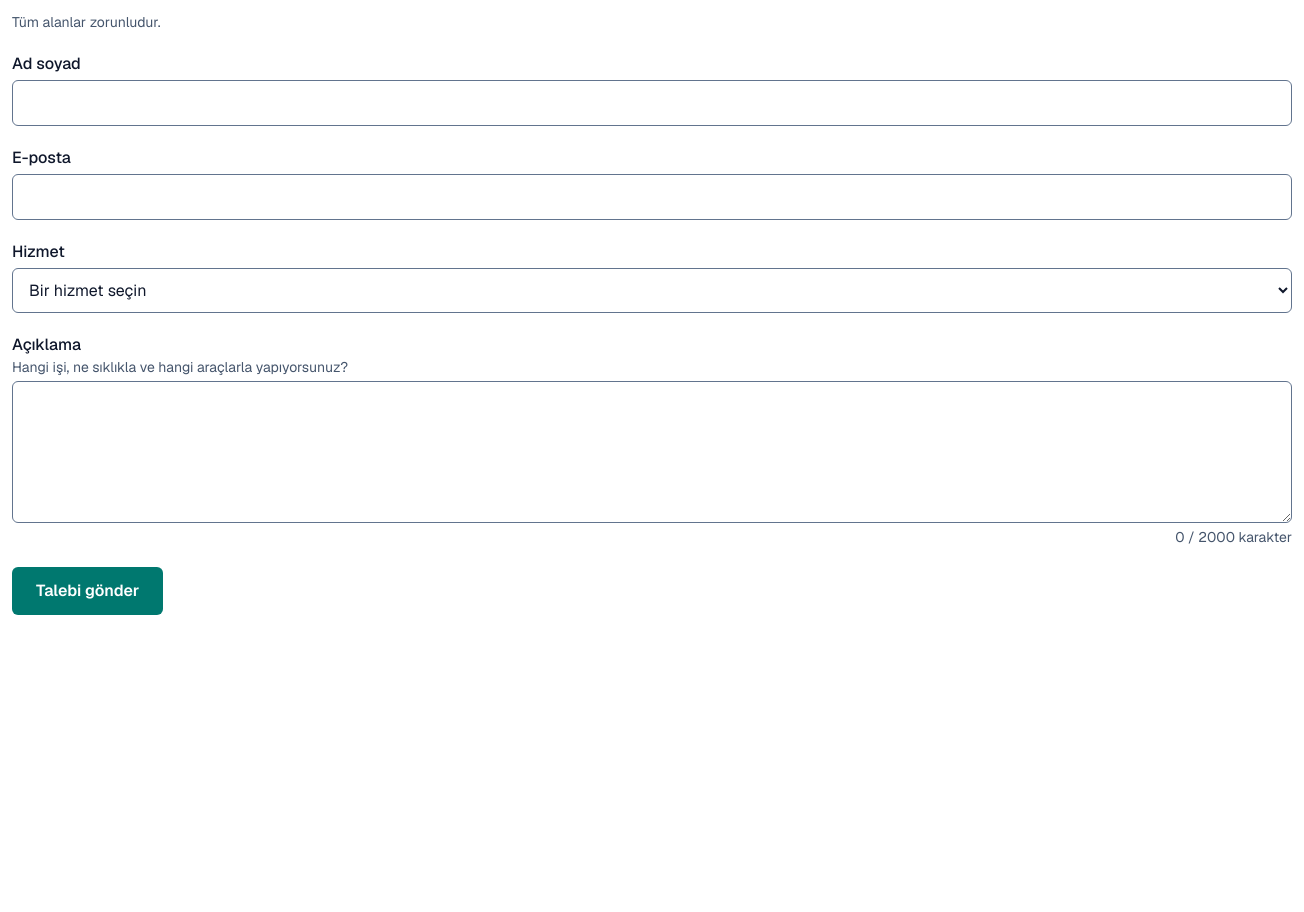
RequestForm › never shows success on 500 server error and keeps the entered data
Type "Ayşe Yılmaz" into the field labelled "Ad soyad".
click(652, 103); type("Ayşe Yılmaz")  # box left=12, top=80, right=1292, bottom=126
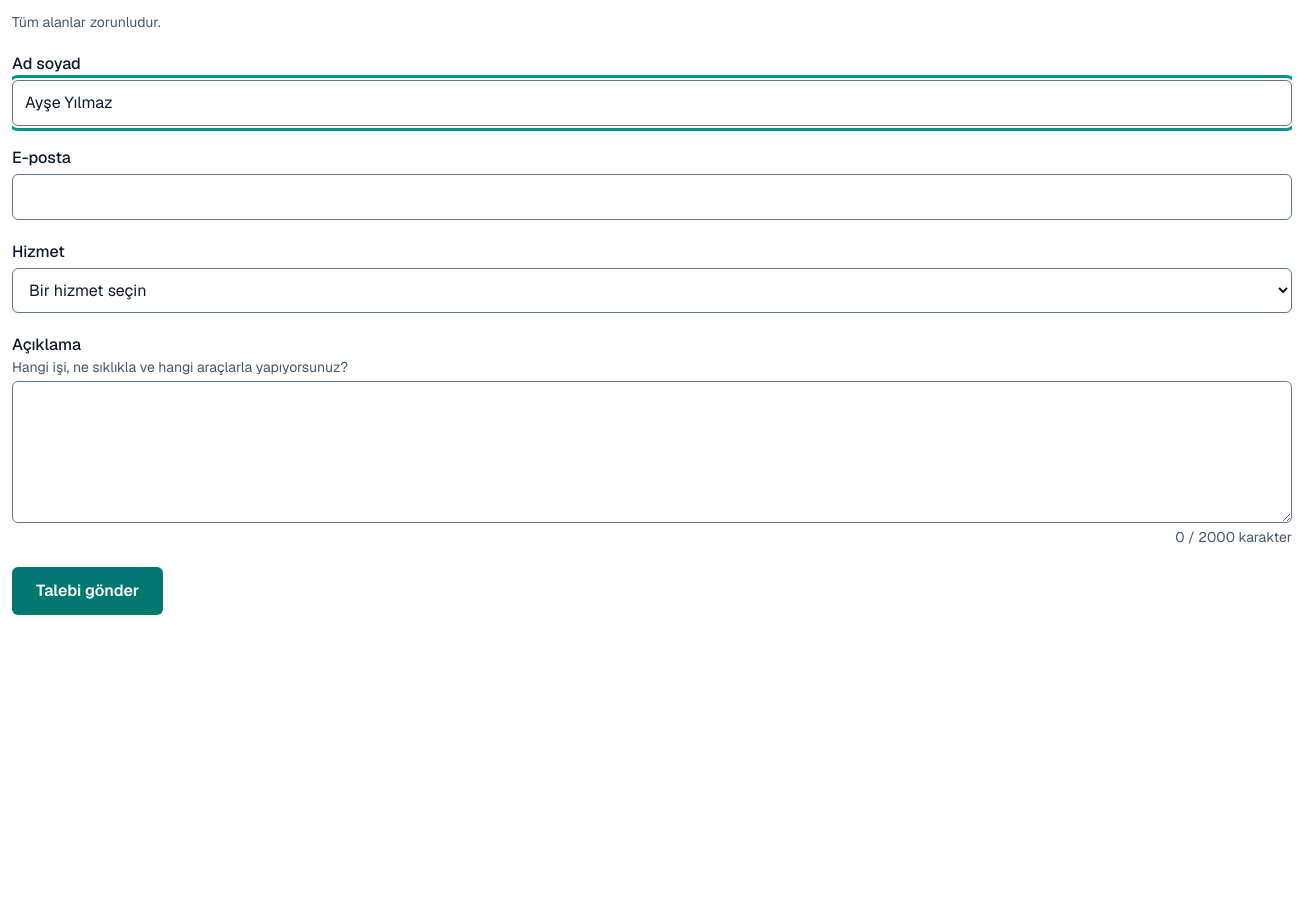
Type "Ayse@Ornek.com" into the field labelled "E-posta".
click(652, 197); type("Ayse@Ornek.com")  # box left=12, top=174, right=1292, bottom=220
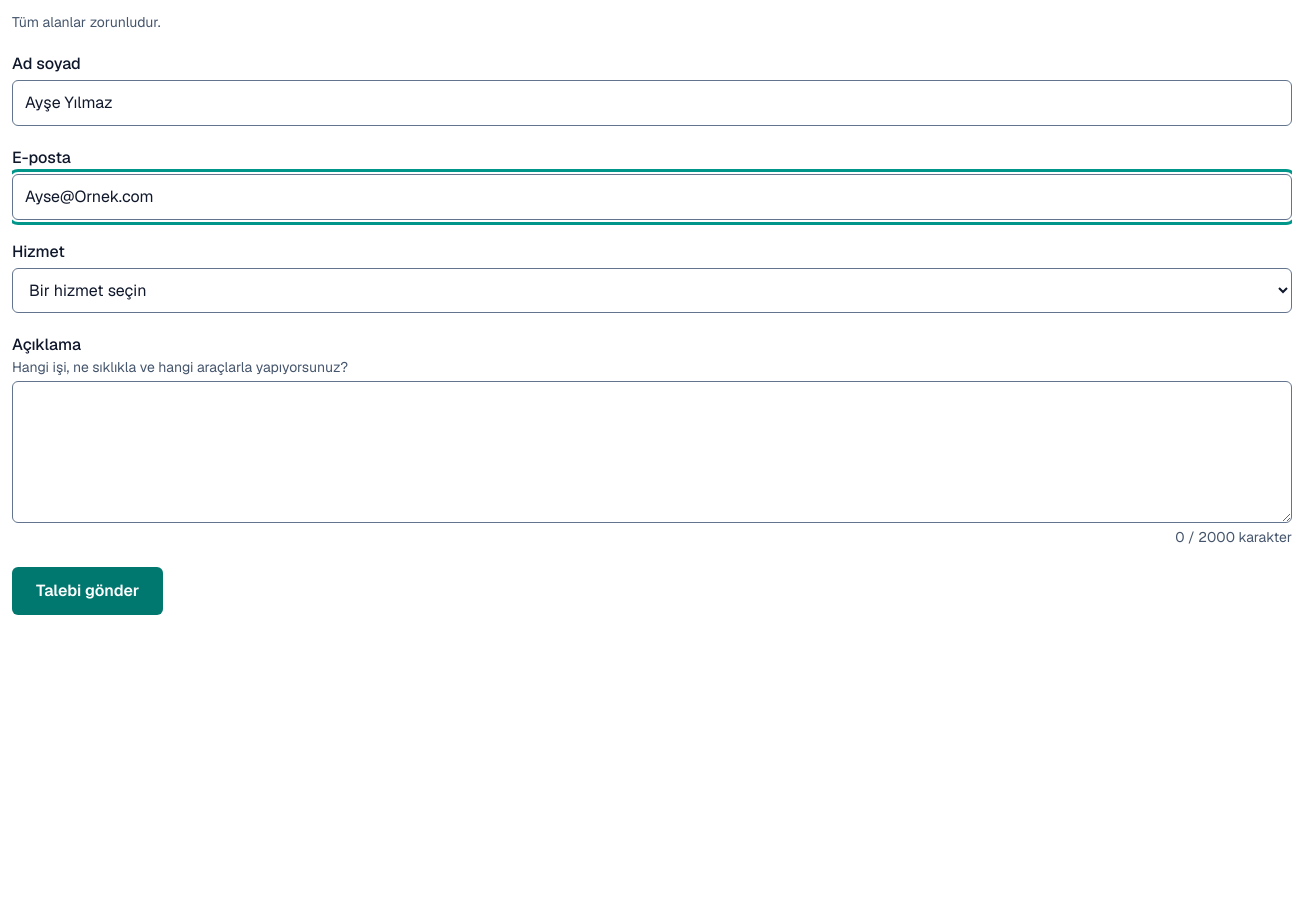
Select "Fatura ve belge otomasyonu" in the dropdown labelled "Hizmet" at (652, 290), box left=12, top=268, right=1292, bottom=313
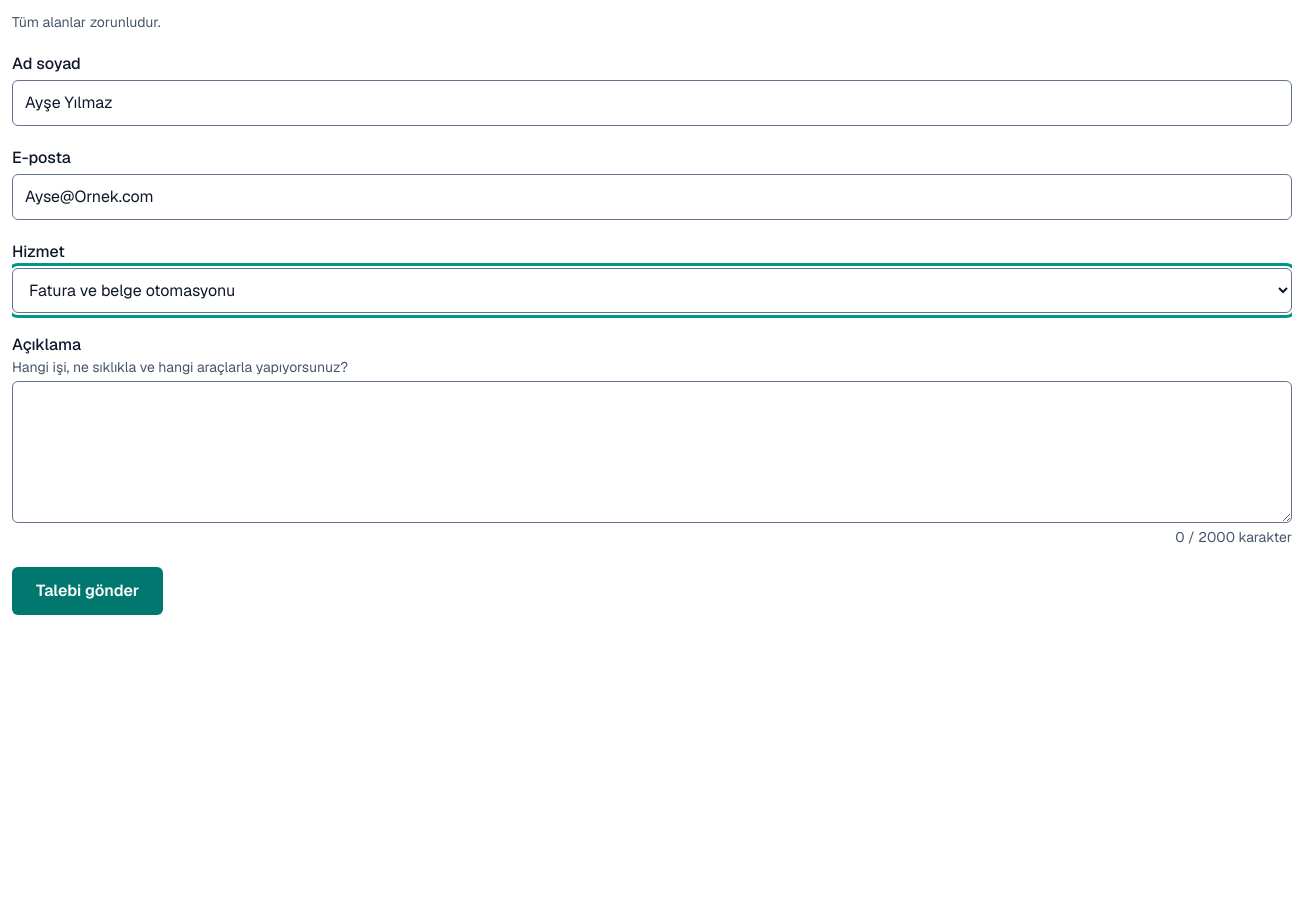
Type "Aylık 200 faturayı elle giriyoruz." into the text box labelled "Açıklama".
click(652, 452); type("Aylık 200 faturayı elle giriyoruz.")  # box left=12, top=381, right=1292, bottom=523
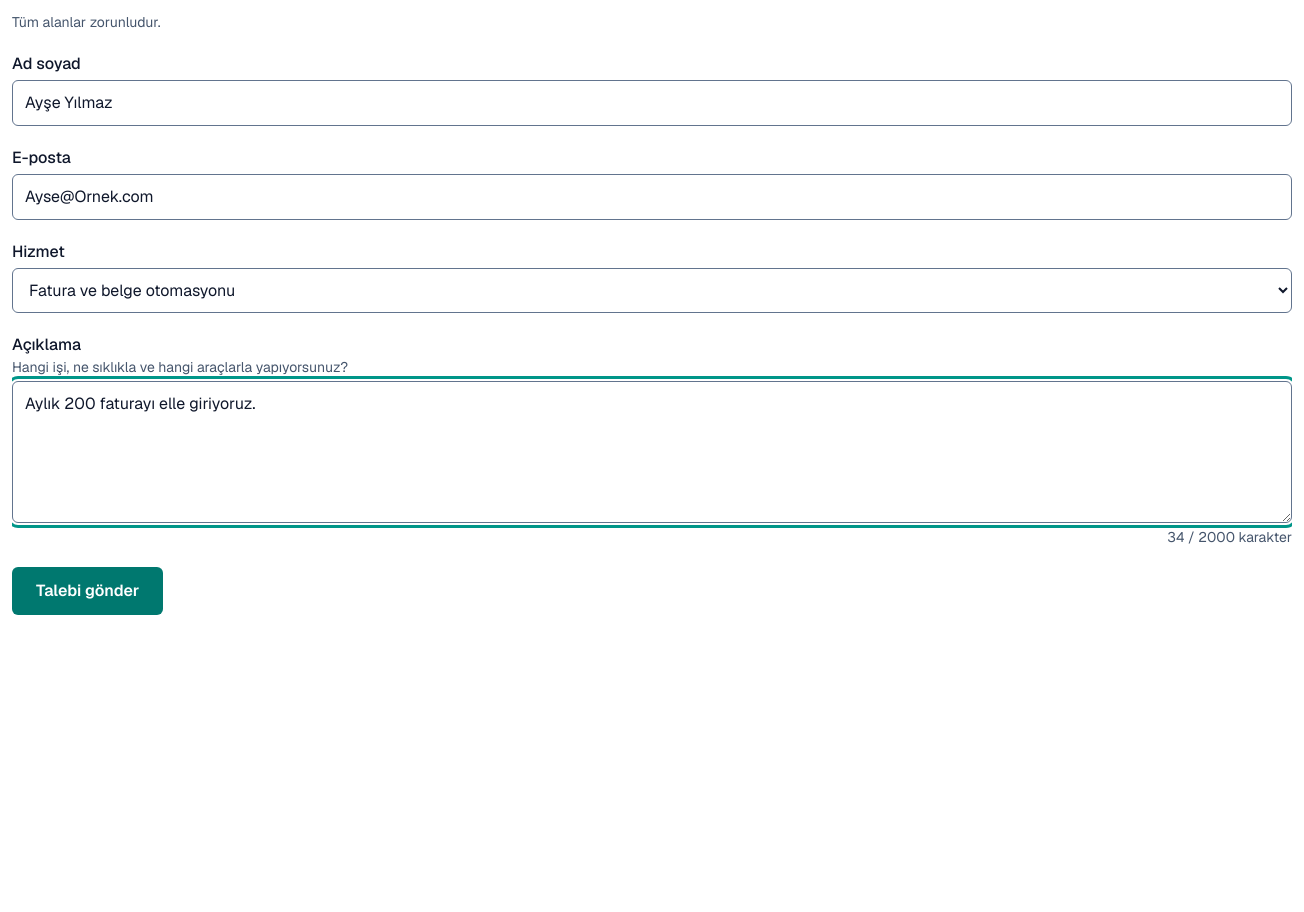
Click the button "Talebi gönder".
click(88, 591)  # box left=12, top=567, right=163, bottom=615
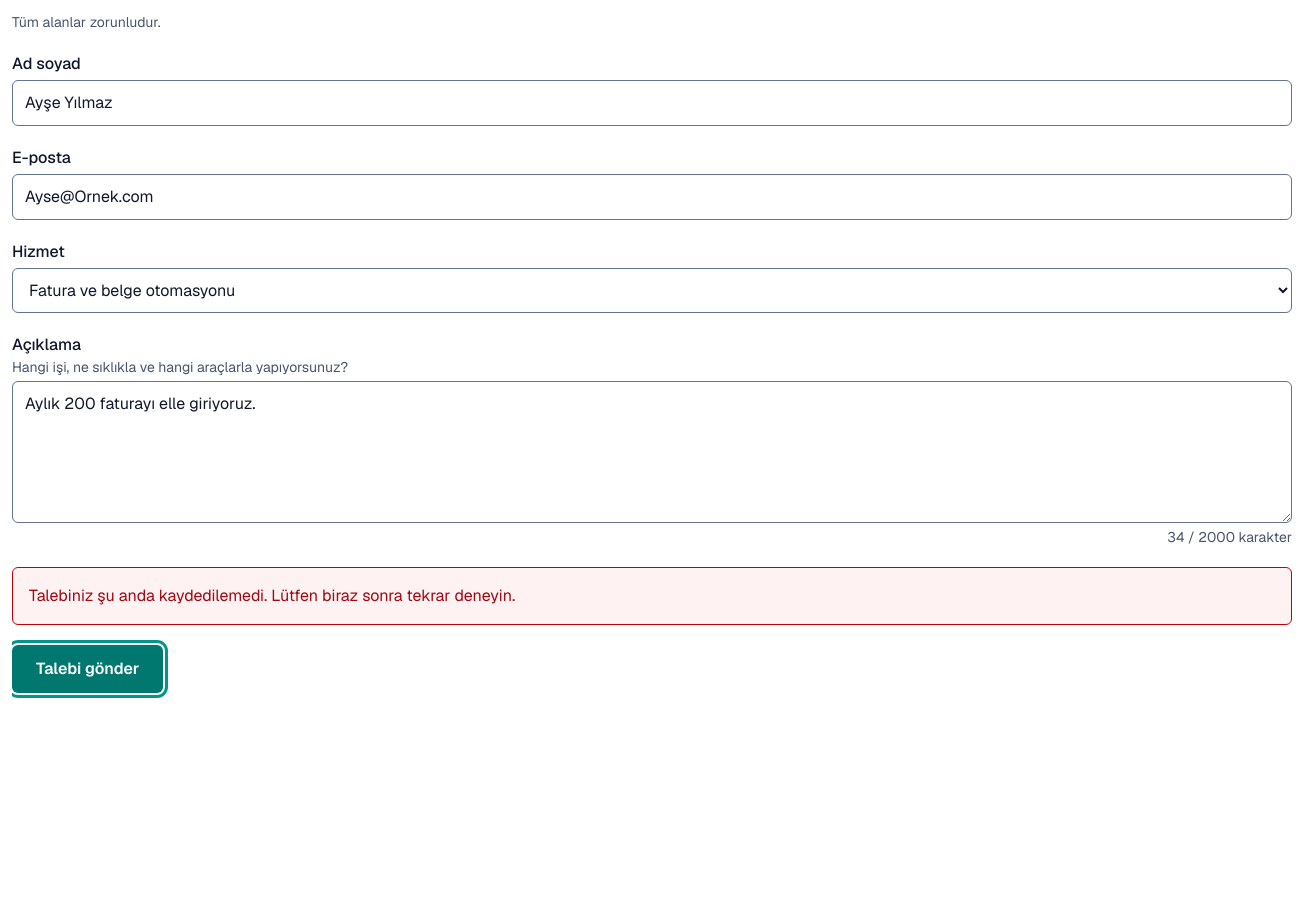
Check: the button "Talebi gönder" is shown, box left=12, top=645, right=163, bottom=693
Check: the message shows "şu anda kaydedilemedi", box left=29, top=585, right=515, bottom=606
